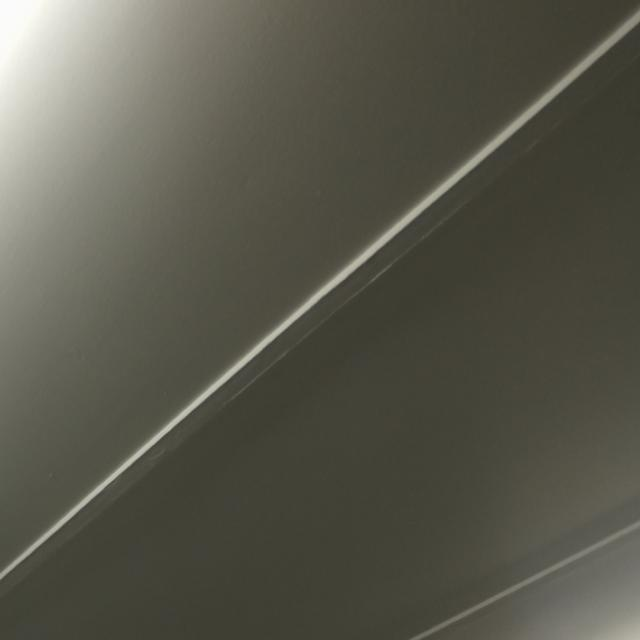fluorescent tube: (0, 0, 31, 548)
